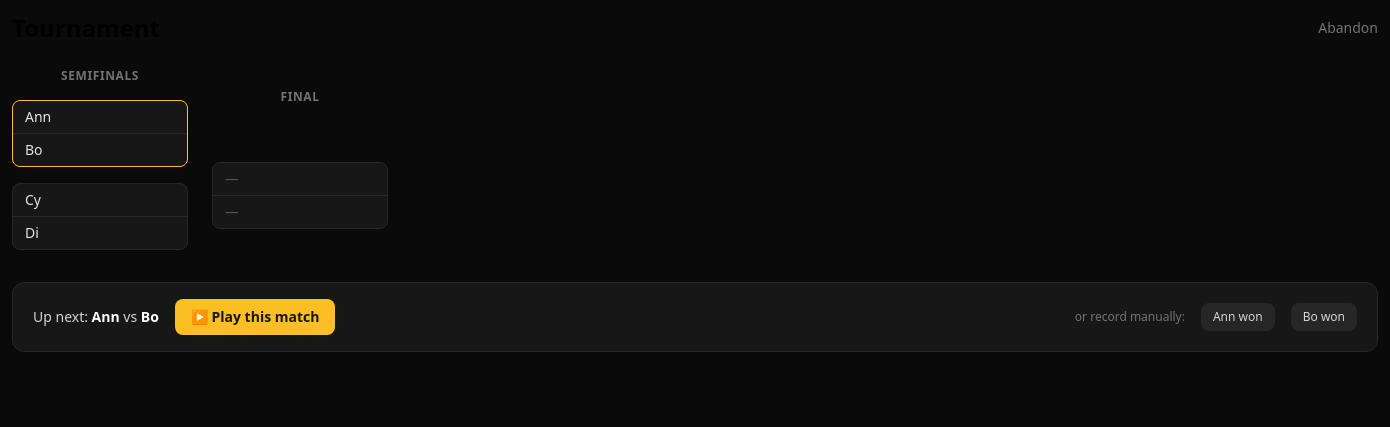
Test: Tournament play › abandon requires confirmation and clears storage
Click the button with aria-label "abandon tournament" at point(1348, 28), box [1318,18,1378,38]
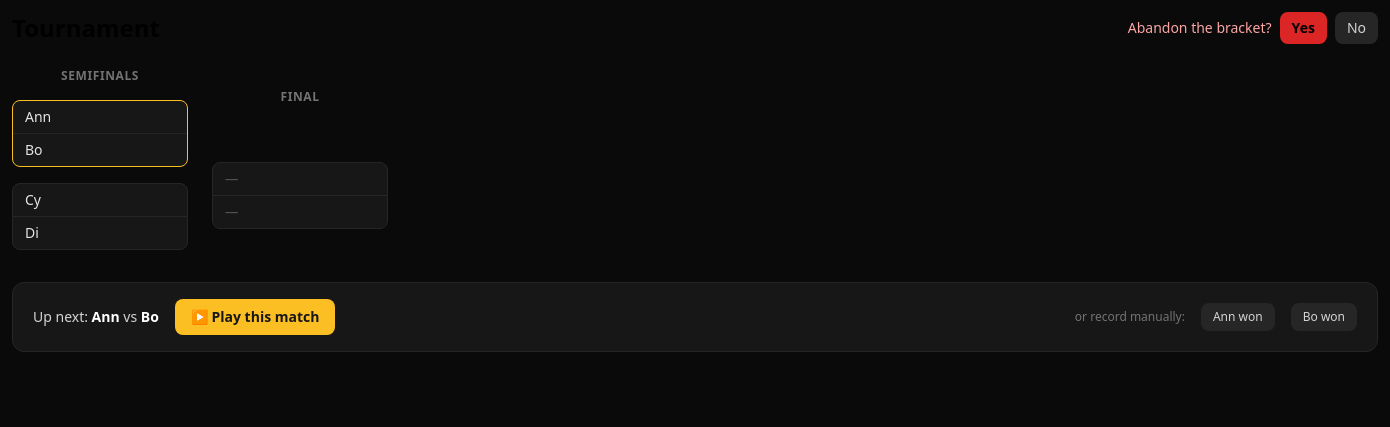
Click the button "Yes" at point(1303, 28), box [1280,12,1327,44]
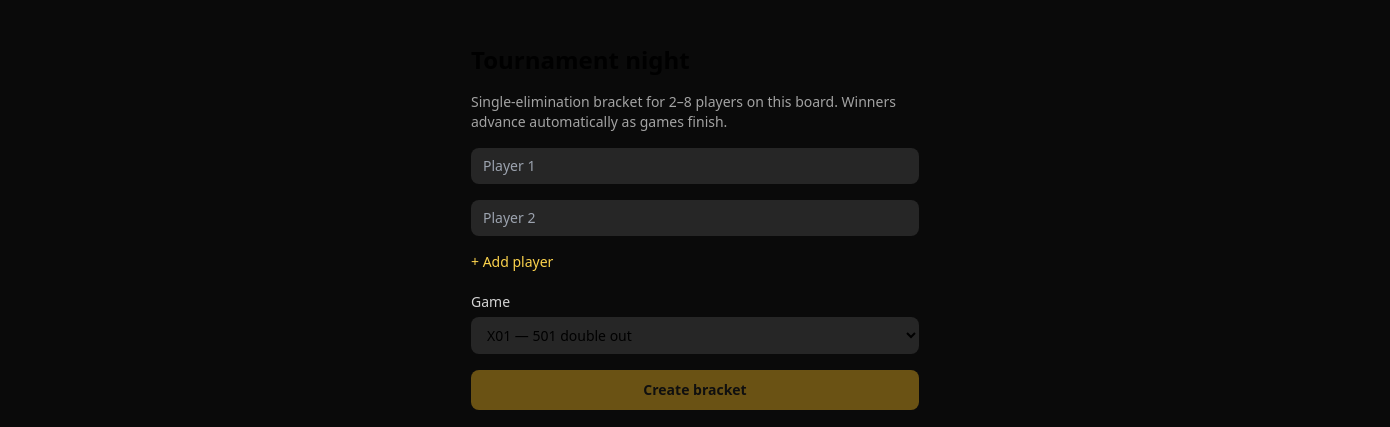
Result: the button "Create bracket" is shown at [471,370,919,410]
